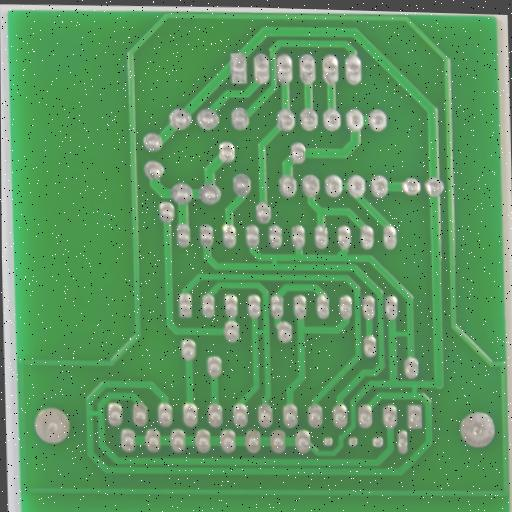short_circuit: (386, 327, 419, 342), (266, 249, 283, 272), (83, 406, 108, 421), (408, 377, 422, 403), (246, 326, 275, 338)
